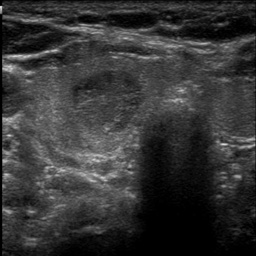mass: (69, 71, 140, 132)
